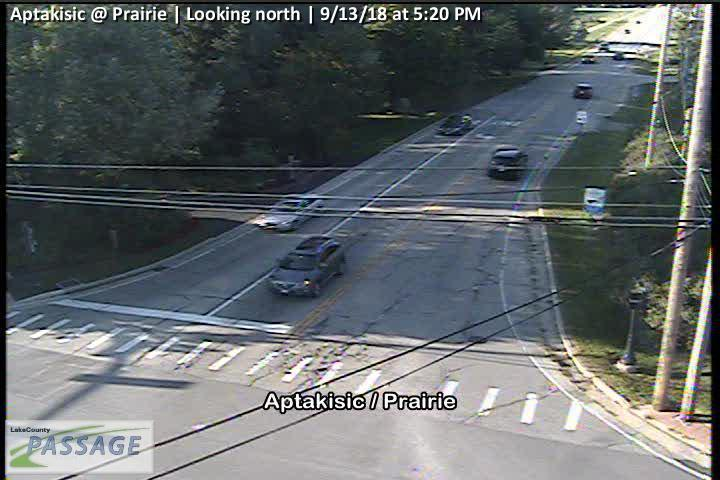SUV: (268, 237, 346, 296)
Sedan: (259, 194, 326, 231), (486, 149, 528, 179), (438, 114, 473, 135), (574, 82, 593, 98), (582, 55, 598, 64)
